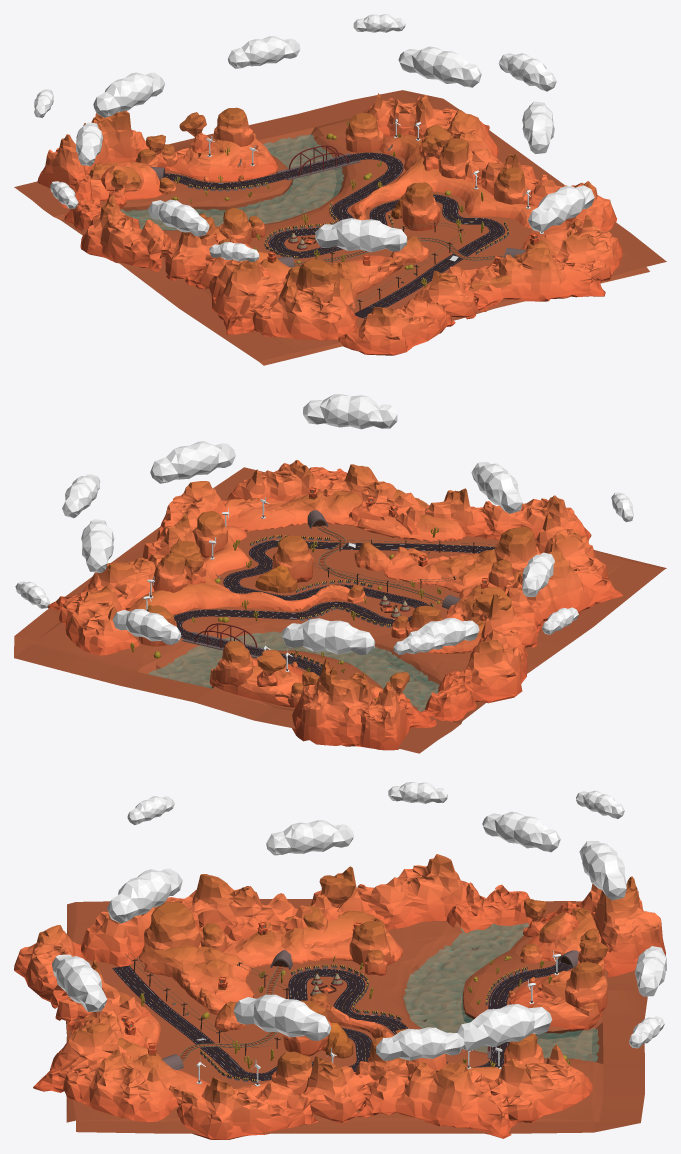
The model's file is track.glb.
3 views of the same model, one above another, from view 1: azimuth 30°, elevation 25°; view 2: azimuth 150°, elevation 25°; view 3: azimuth 270°, elevation 25° (orthographic). The views are drawn at different scales.
Parts seen in each view (by area): view 1: mountains, terrain, track_collideable.001, water, track_collideable, cloud.012, track, cloud.006, cloud.011, cloud.007, cloud.001, cloud.002 (+5 smaller); view 2: mountains, terrain, track_collideable.001, water, track_collideable, track, cloud.007, cloud.011, cloud, cloud.012, cloud.001, cloud.006 (+6 smaller); view 3: mountains, terrain, water, track_collideable.001, cloud, cloud.006, track_collideable, track, cloud.012, cloud.009, cloud.002, cloud.007 (+7 smaller).
Part boxes in pixels (<box>): mountains: <box>37,93,622,355</box>; terrain: <box>14,90,666,365</box>; track_collideable.001: <box>163,152,504,318</box>; water: <box>120,134,343,230</box>; track_collideable: <box>151,147,525,310</box>; cloud.012: <box>315,218,407,252</box>; track: <box>171,119,543,307</box>; cloud.006: <box>398,46,481,87</box>; cloud.011: <box>93,72,164,117</box>; cloud.007: <box>528,185,594,231</box>; cloud.001: <box>228,36,300,68</box>; cloud.002: <box>148,199,209,236</box>; mountains: <box>47,460,622,750</box>; terrain: <box>14,467,666,753</box>; track_collideable.001: <box>173,540,494,676</box>; water: <box>147,631,439,711</box>; track_collideable: <box>182,510,474,668</box>; track: <box>130,487,496,675</box>; cloud.007: <box>303,394,397,429</box>; cloud.011: <box>282,618,375,654</box>; cloud: <box>150,441,235,483</box>; cloud.012: <box>471,462,522,513</box>; cloud.001: <box>112,609,181,644</box>; cloud.006: <box>81,519,114,572</box>; mountains: <box>14,854,665,1139</box>; terrain: <box>66,899,647,1133</box>; water: <box>403,923,599,1061</box>; track_collideable.001: <box>112,962,571,1080</box>; cloud: <box>233,994,331,1040</box>; cloud.006: <box>456,1004,552,1050</box>; track_collideable: <box>133,949,578,1083</box>; track: <box>121,922,570,1086</box>; cloud.012: <box>107,868,182,923</box>; cloud.009: <box>376,1027,464,1060</box>; cloud.002: <box>266,820,353,855</box>; cloud.007: <box>52,954,107,1011</box>.
Bounding box in the file's own units: 315 × 68.09 × 317.
Materials: 2 (2 with a texture image).
